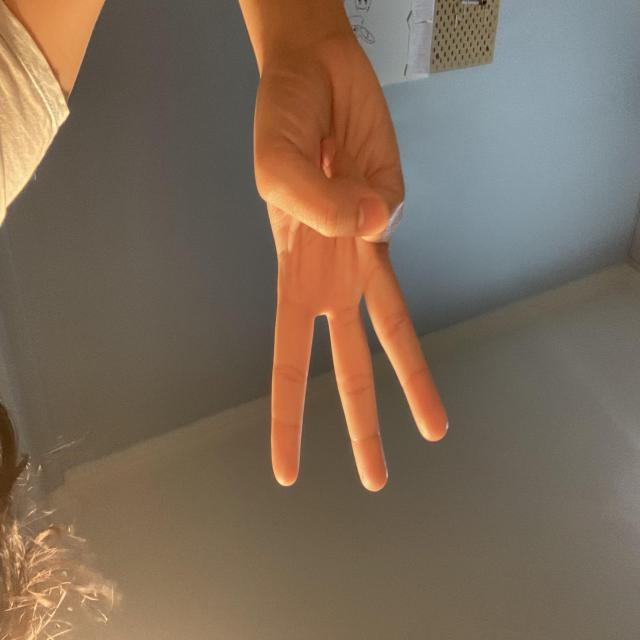W: (191, 147, 387, 608)
